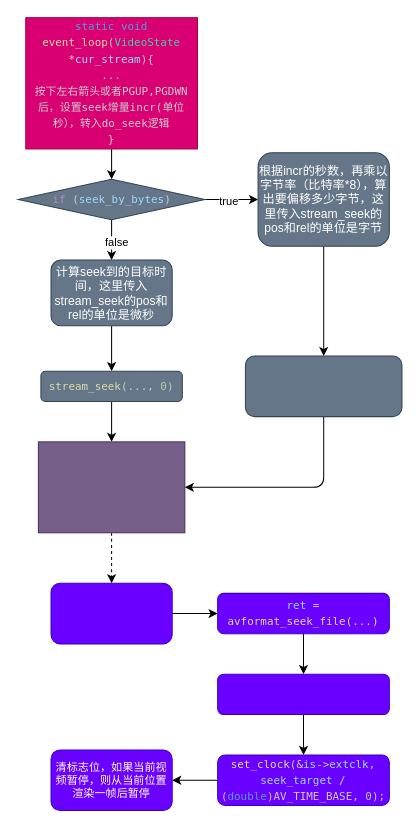
Some shapes in this 419 by 828 pixel diagram are drawn without their labels. Each missing label, with the box of its shape:
packet_queue_flush(...)清除PacketQueue缓存: (217, 673, 389, 715)
stream_seek ( cur_stream , pos , incr , 1 ): (244, 355, 402, 417)
解复用线程read_thread里面进入 if ( is -> seek_req ) {...}逻辑: (50, 582, 172, 644)
设置is中执行seek操作所用的相关变量，并且设置is->seek_req，从而告知解复用线程执行seek逻辑: (37, 441, 185, 533)
